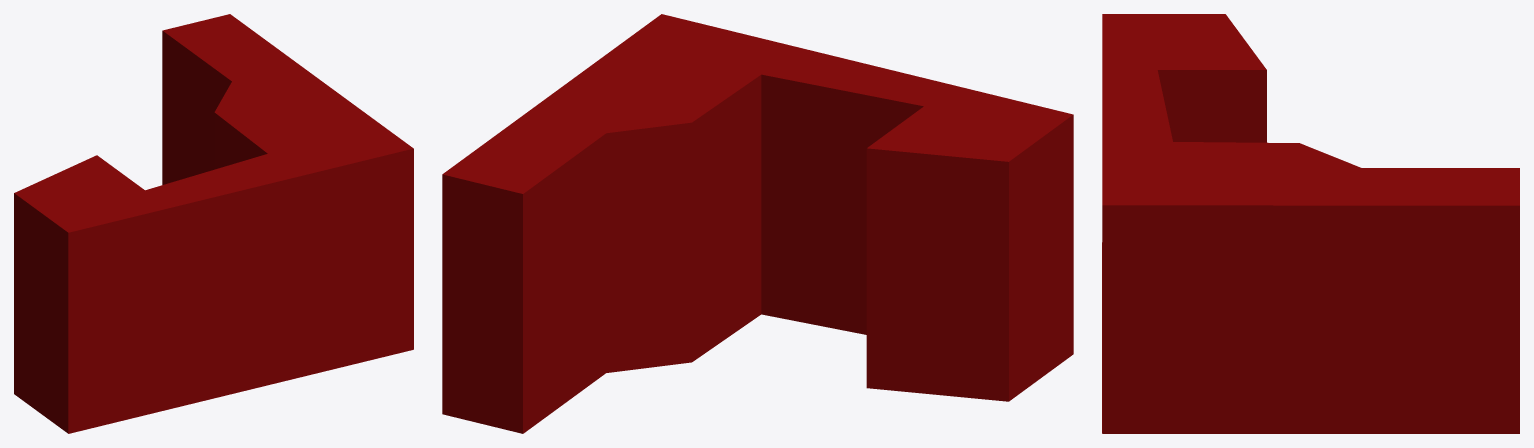
File: New Game Object (57).obj
3 renders of one model, left to right at view 1: azimuth 30°, elevation 25°; view 2: azimuth 150°, elevation 25°; view 3: azimuth 270°, elevation 25°, orthographic. The views are drawn at different scales.
Parts seen in each view (by area): view 1: New Game Object (57)_0, New Game Object (57)_1; view 2: New Game Object (57)_0, New Game Object (57)_1; view 3: New Game Object (57)_0, New Game Object (57)_1.
Boxes of the visible parts, box(x1,y1,x2,y2) form: New Game Object (57)_0: box(14, 31, 413, 433); New Game Object (57)_1: box(14, 14, 413, 430); New Game Object (57)_0: box(442, 74, 1073, 433); New Game Object (57)_1: box(442, 14, 1072, 193); New Game Object (57)_0: box(1102, 70, 1519, 433); New Game Object (57)_1: box(1102, 14, 1519, 432).
Size of the model in its own units: 25.48 by 14.17 by 23.49.
